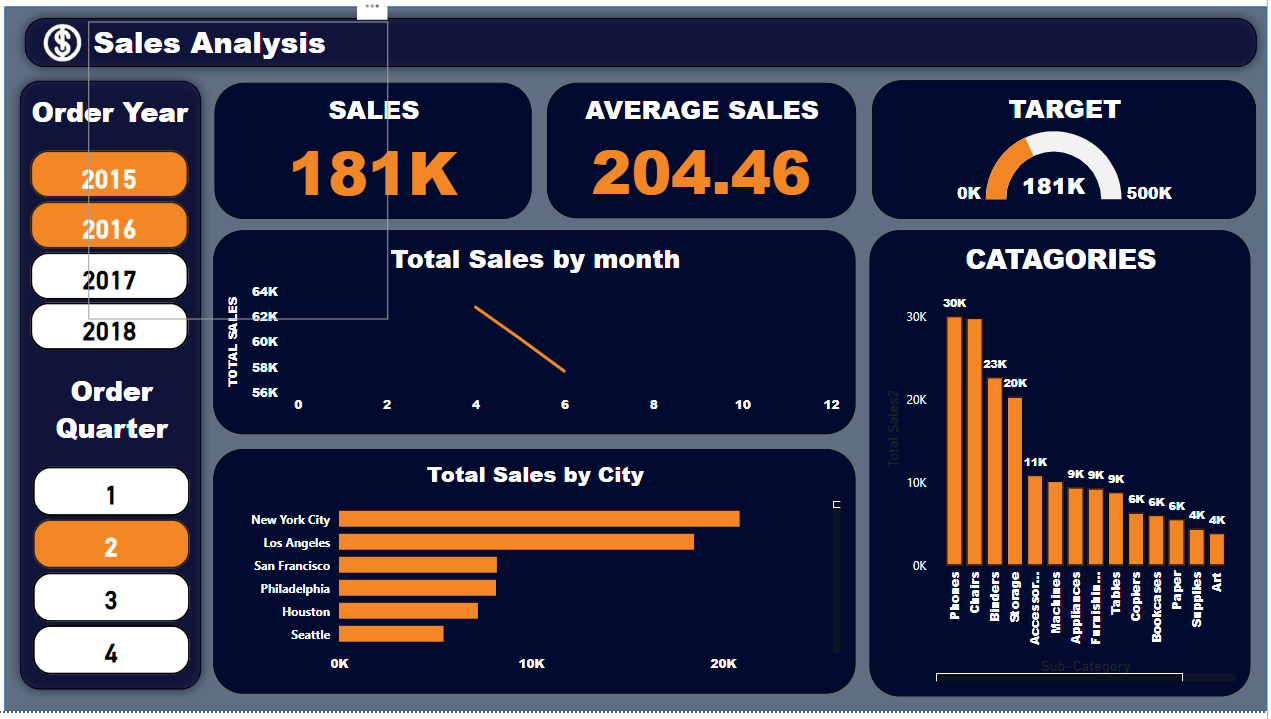

Layout of this report page (visuals, bound fields, positions):
{"tool":"powerbi","page":{"name":"Page 1","canvas":[1280,720],"ordinal":0},"visuals":[{"type":"shape","box":[12.5,12.5,1267.5,707.5],"z":0},{"type":"shape","box":[18,76,202.8,632],"z":1000},{"type":"advancedSlicerVisual","title":"Order Year","fields":{"Values":["DATE.Order Date_YEAR"]},"box":[35.7,98.6,165.7,281.4],"z":2000},{"type":"lineChart","title":"Total Sales by month","fields":{"Y":["BASE.Total Sales2"],"Category":["DATE.Order Date_MONTH"]},"box":[222.5,237,645,205],"z":3000},{"type":"advancedSlicerVisual","title":"Order Quarter","fields":{"Values":["DATE.Order Date_QTR"]},"box":[37.1,378.6,164.3,324.9],"z":4000},{"type":"card","title":"SALES","fields":{"Values":["BASE.Total Sales2"]},"box":[222.9,88.9,318.6,136.9],"z":5000},{"type":"card","title":"AVERAGE SALES","fields":{"Values":["BASE.Average Sales2"]},"box":[557.1,88.6,310,135.7],"z":6000},{"type":"clusteredBarChart","title":"Total Sales by City","fields":{"Category":["LOCATION.City"],"Y":["BASE.Total Sales2"]},"box":[222.5,456.5,645,246],"z":7000},{"type":"gauge","title":"TARGET","fields":{"Y":["BASE.Total Sales2"],"MinValue":["BASE.Min Sales"],"MaxValue":["BASE.target"]},"box":[882.9,87.1,385.7,139.1],"z":8000},{"type":"clusteredColumnChart","title":"CATAGORIES","fields":{"Y":["BASE.Total Sales2"],"Category":["PRODUCT.Sub-Category"]},"box":[881.4,237,382,468],"z":9000},{"type":"shape","box":[22.4,14,1257.6,70],"z":10000},{"type":"textbox","title":"Sales Analysis","box":[97.2,28,300,300],"z":11000},{"type":"image","box":[44.8,23.7,51.1,51.1],"z":12000}]}

Visuals, with their boxes in screenshot pixels (x1, y1, x2, y2), scaled from the page's 1280x720 canvas onto the 1271x719 screenshot:
shape: left=12, top=12, right=1270, bottom=718
shape: left=18, top=76, right=219, bottom=707
"Order Year" advancedSlicerVisual: left=35, top=98, right=200, bottom=379
"Total Sales by month" lineChart: left=221, top=237, right=861, bottom=441
"Order Quarter" advancedSlicerVisual: left=37, top=378, right=200, bottom=703
"SALES" card: left=221, top=89, right=538, bottom=225
"AVERAGE SALES" card: left=553, top=88, right=861, bottom=224
"Total Sales by City" clusteredBarChart: left=221, top=456, right=861, bottom=702
"TARGET" gauge: left=877, top=87, right=1260, bottom=226
"CATAGORIES" clusteredColumnChart: left=875, top=237, right=1255, bottom=704
shape: left=22, top=14, right=1270, bottom=84
"Sales Analysis" textbox: left=97, top=28, right=394, bottom=328
image: left=44, top=24, right=95, bottom=75
